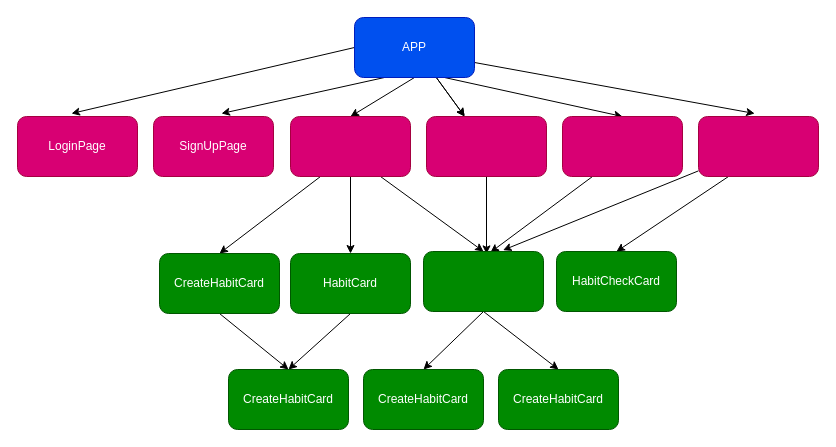
Image size: 836x447. Some labels were removed from this diagram. Here are the shapes that lost their labels. From the top down, the centre of each, then its label:
At (350,146): "HabitsPage".
At (486,146): "HistoryPage".
At (622,146): "ErrorPage".
At (758,146): "TodayPage".
At (483,281): "ScreenWithBars".
